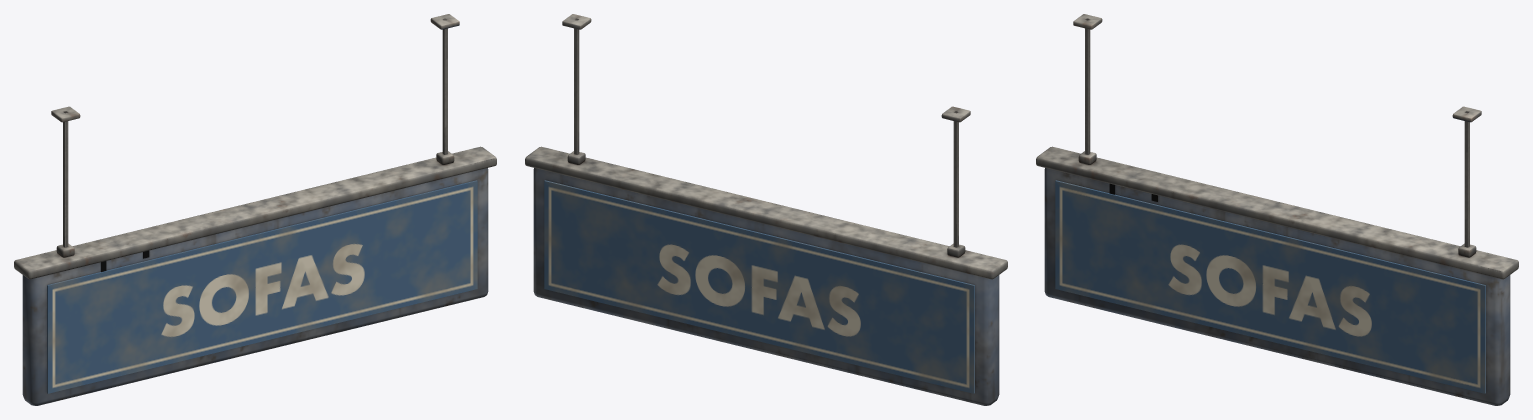
The model's file is dept_sign.fbx.
3 renders of one model, left to right at view 1: azimuth 30°, elevation 25°; view 2: azimuth 150°, elevation 25°; view 3: azimuth 330°, elevation 25°, orthographic.
Visible parts, largest first — view 1: Screen, Body; view 2: Screen2, Body; view 3: Screen, Body.
Part boxes in pixels (<box>): Screen: <box>47,180,477,393</box>; Body: <box>14,14,496,405</box>; Screen2: <box>544,180,974,393</box>; Body: <box>525,14,1007,405</box>; Screen: <box>1055,180,1485,393</box>; Body: <box>1036,14,1518,405</box>.
Bounding box in the file's own units: 8.4 × 4.85 × 0.5.
Materials: 3 (3 with a texture image).
